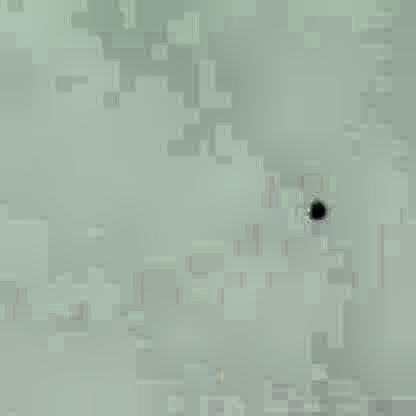golfball: (305, 195, 323, 214)
